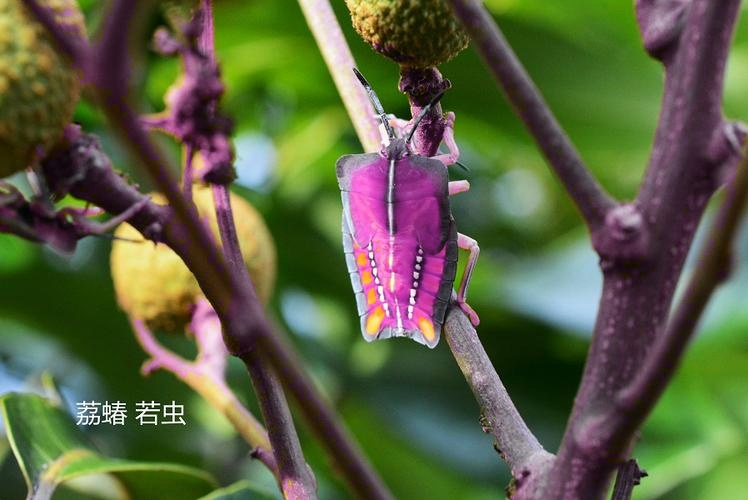Stink_Bug: (351, 118, 457, 350)
